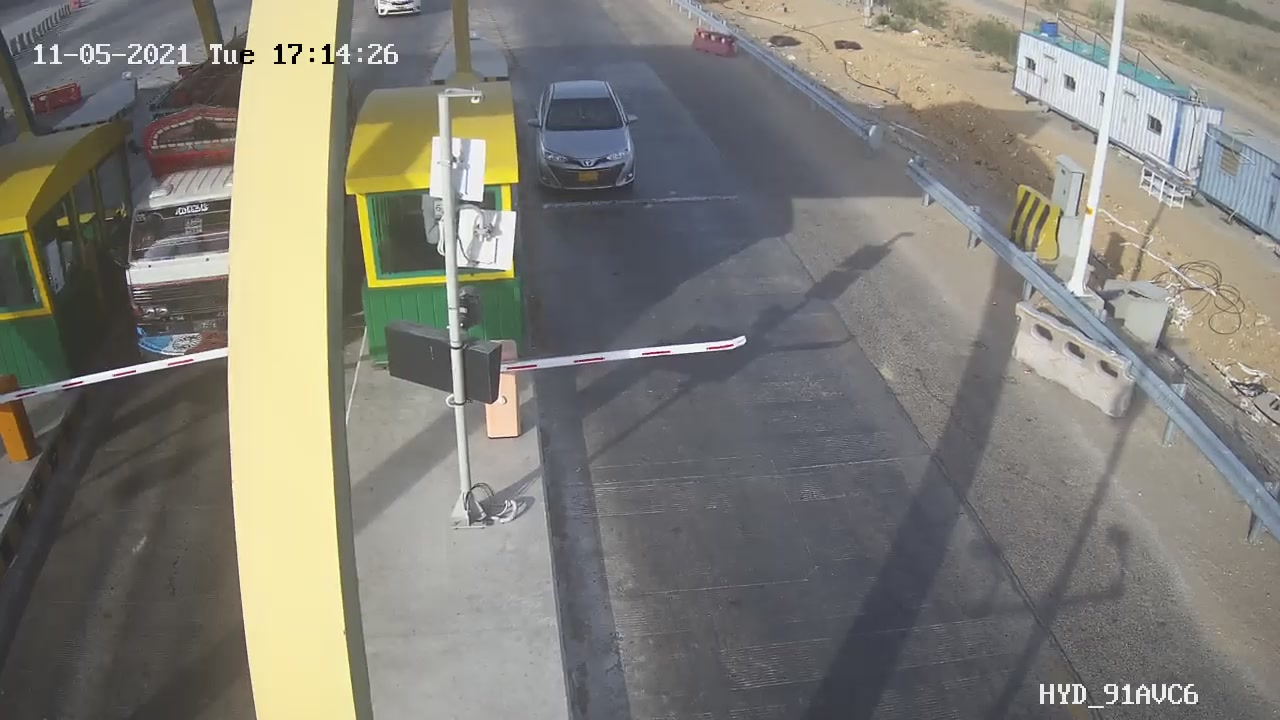F1: (514, 64, 656, 213)
